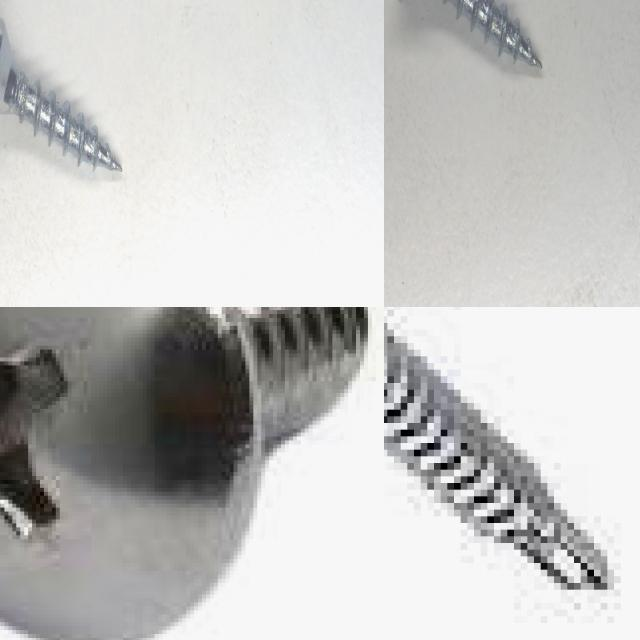Screw: (0, 307, 372, 640), (384, 323, 614, 596), (0, 18, 120, 170), (448, 0, 542, 67)
